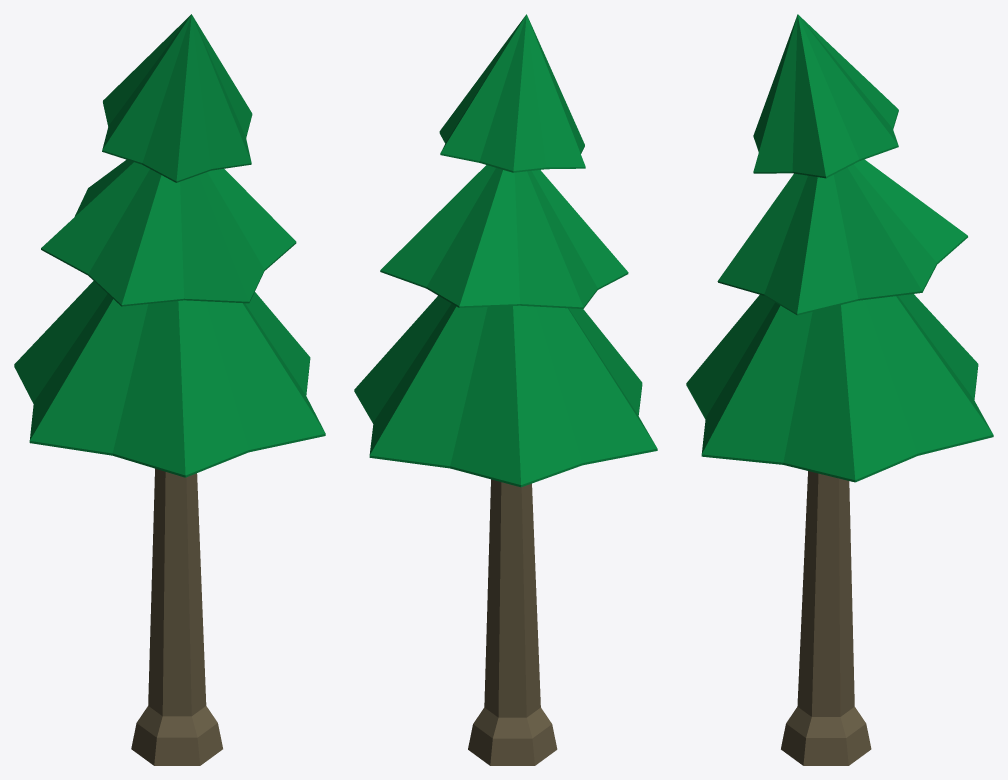
The model's file is SM_Factory_Tree_03.glb.
The picture shows the model from 3 angles, left to right: view 1: azimuth 30°, elevation 25°; view 2: azimuth 150°, elevation 25°; view 3: azimuth 270°, elevation 25°; orthographic projection. The views are drawn at different scales.
Visible parts, largest first — view 1: SM_Factory_Tree_03; view 2: SM_Factory_Tree_03; view 3: SM_Factory_Tree_03.
Boxes of the visible parts, box(x1,y1,x2,y2) form: SM_Factory_Tree_03: box(14, 14, 325, 765); SM_Factory_Tree_03: box(354, 14, 657, 765); SM_Factory_Tree_03: box(686, 14, 993, 765).
Bounding box in the file's own units: 1.86 × 4.47 × 1.69.
1 material, 1 textured.
